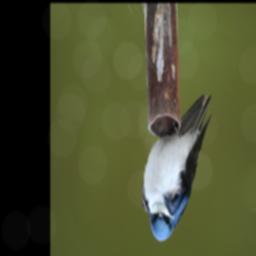Swallow: (141, 93, 213, 243)
